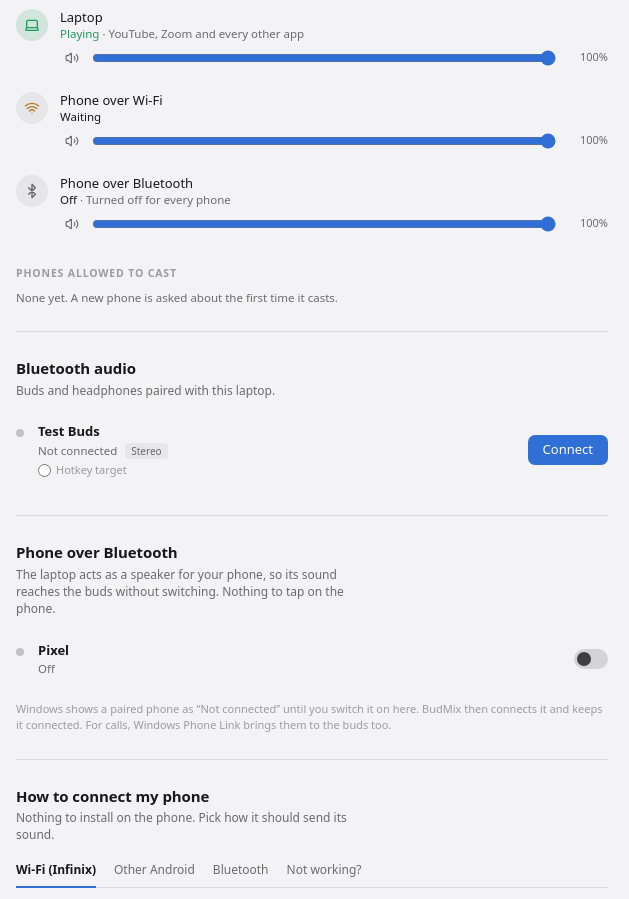
Test: App › reports failed requests
The width and height of the screenshot is (629, 899).
(page scrolled)
Click the button with aria-label "Connect Test Buds" at point(568, 450), box [528, 436, 608, 465]
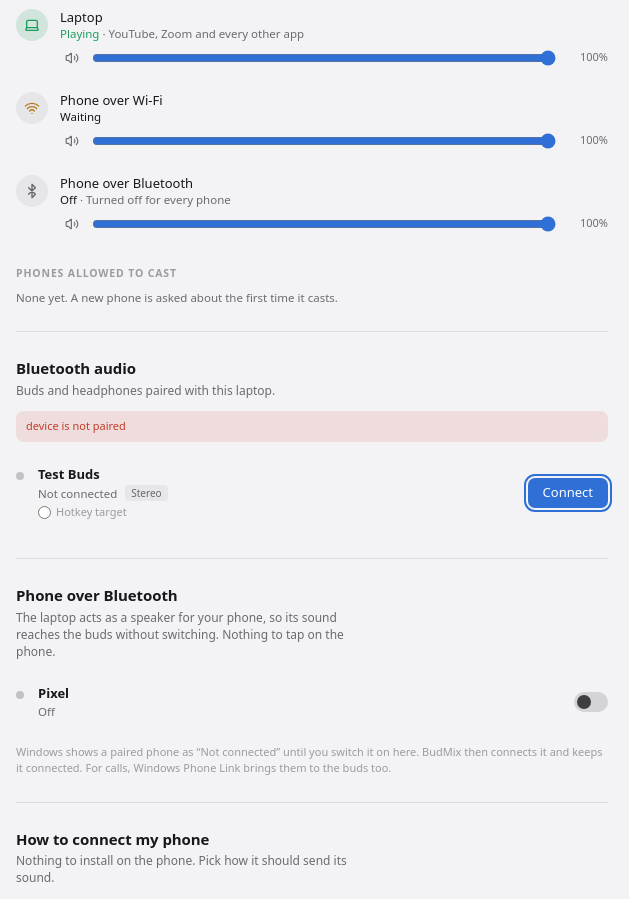
Now the message reads "device is not paired", box [26, 418, 126, 433]
